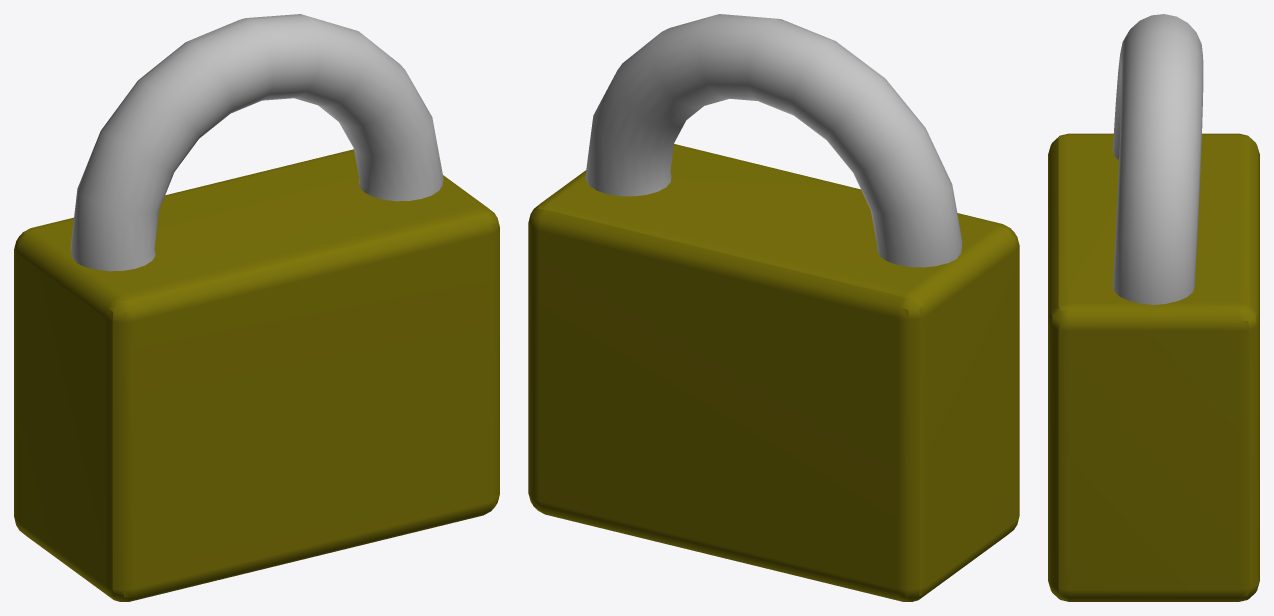
Rendered from Lås 1.fbx.
3 views of the same model, side by side, from view 1: azimuth 30°, elevation 25°; view 2: azimuth 150°, elevation 25°; view 3: azimuth 270°, elevation 25° (orthographic). The views are drawn at different scales.
Parts seen in each view (by area): view 1: pCube1, pTorus1; view 2: pCube1, pTorus1; view 3: pCube1, pTorus1.
Part boxes in pixels (x1,y1,x2,y2): pCube1: (14,149,499,601); pTorus1: (70,14,443,271); pCube1: (528,144,1019,601); pTorus1: (585,14,962,267); pCube1: (1048,133,1259,601); pTorus1: (1112,14,1203,304).
Size of the model in its own units: 2.6 by 3.17 by 1.26.
